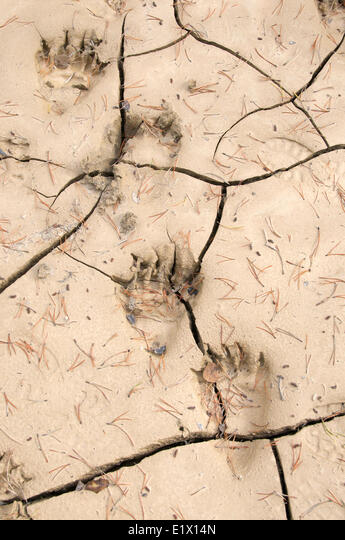bear: (111, 225, 201, 369), (201, 352, 282, 483), (37, 20, 114, 122), (106, 104, 191, 194)
